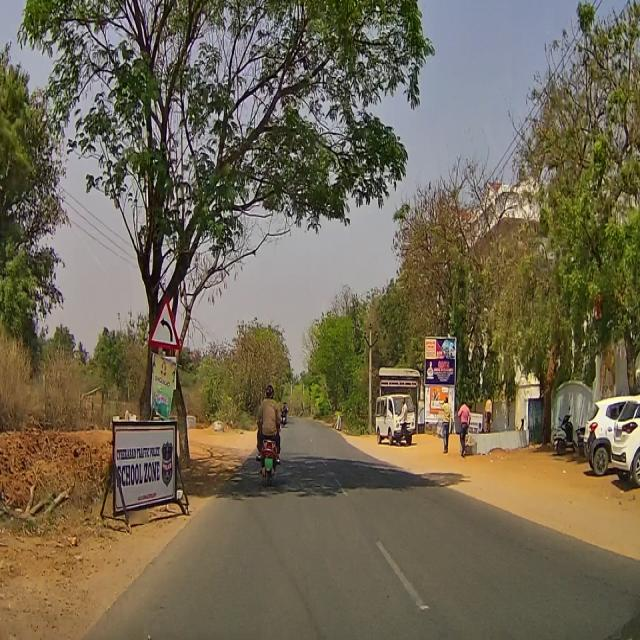left-hand-curve: (146, 289, 179, 349)
